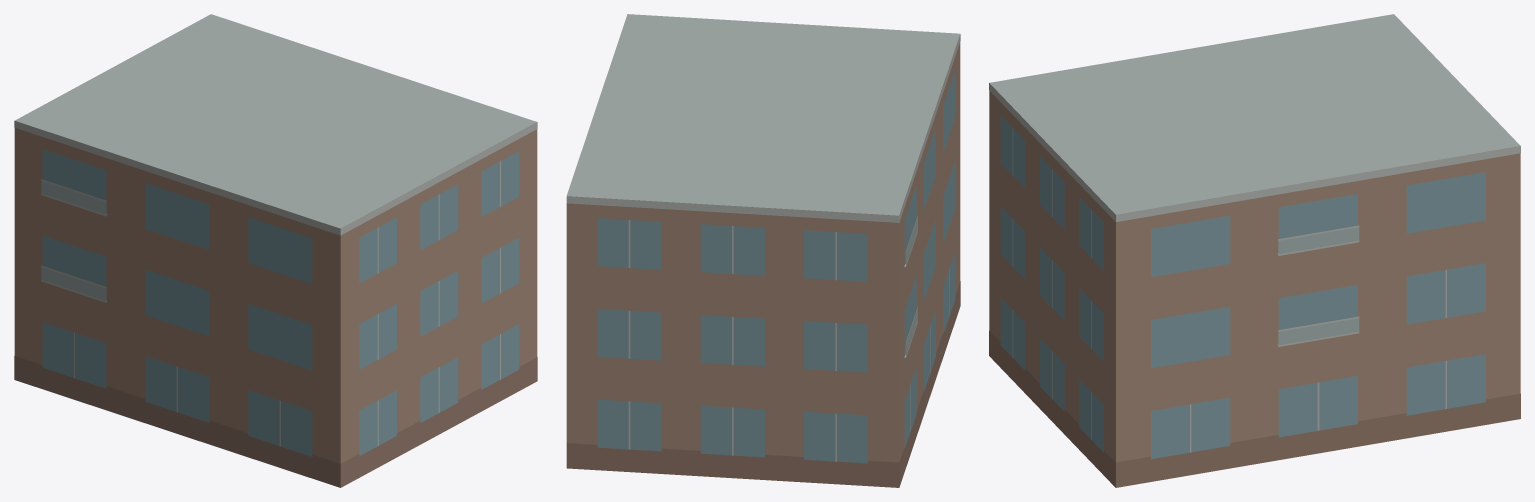
Rendered from survey-upis-32698046.glb.
3 renders of one model, left to right at view 1: azimuth 30°, elevation 25°; view 2: azimuth 150°, elevation 25°; view 3: azimuth 270°, elevation 25°, orthographic. The views are drawn at different scales.
Visible parts, largest first — view 1: survey-upis-32698046.tmp; view 2: survey-upis-32698046.tmp; view 3: survey-upis-32698046.tmp.
Boxes of the visible parts, x1,y1,x2,y2 form: survey-upis-32698046.tmp: (14, 14, 537, 487); survey-upis-32698046.tmp: (566, 14, 960, 487); survey-upis-32698046.tmp: (989, 14, 1520, 487).
Size of the model in its own units: 14.45 by 9.15 by 16.16.
